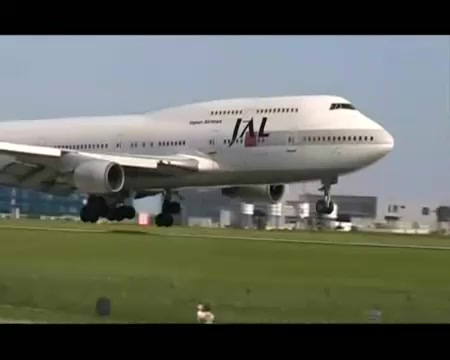aeroplane: (2, 96, 396, 228)
